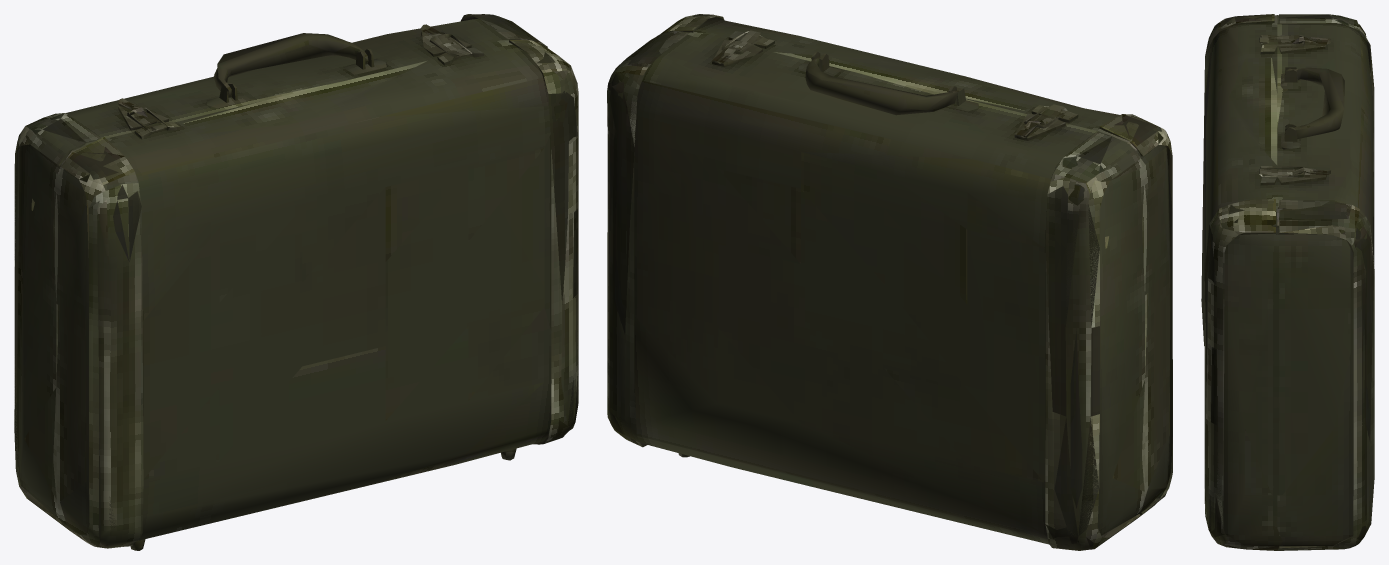
File: suitcase.glb
3 renders of one model, left to right at view 1: azimuth 30°, elevation 25°; view 2: azimuth 150°, elevation 25°; view 3: azimuth 270°, elevation 25°, orthographic. The views are drawn at different scales.
Visible parts, largest first — view 1: body; view 2: body; view 3: body.
Part boxes in pixels (box(x1,y1,x2,y2)): body: box(14, 14, 578, 550); body: box(607, 14, 1172, 550); body: box(1201, 14, 1374, 550).
Size of the model in its own units: 0.6936 by 0.5629 by 0.2365.
1 material, 1 textured.
